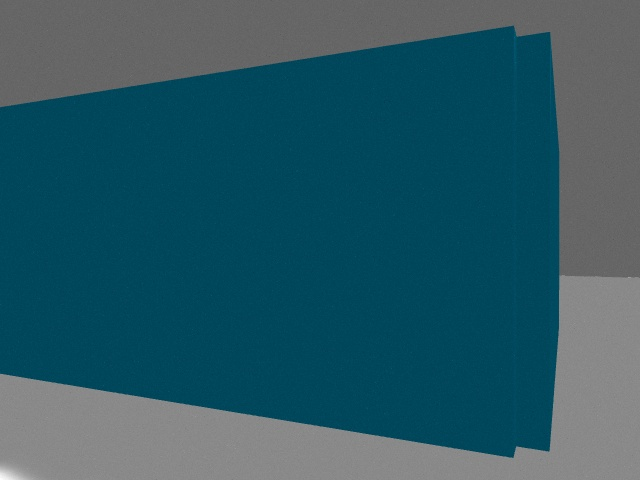blue_drop_zone: (0, 26, 559, 458)
